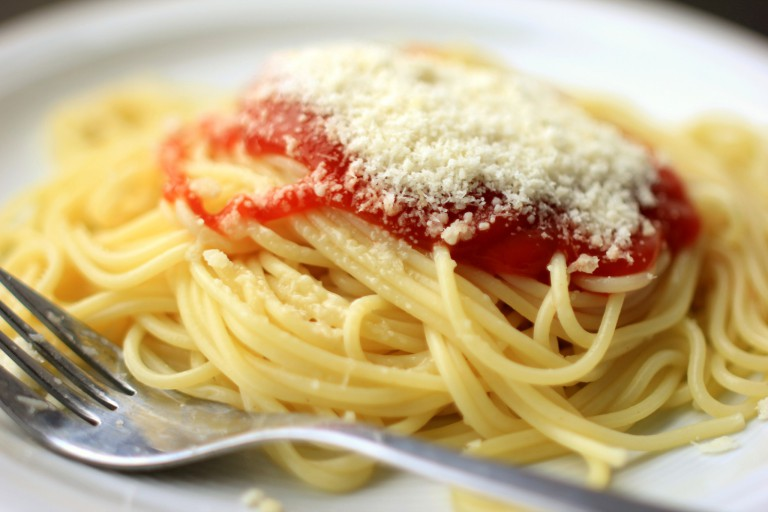plain spaghetti: (23, 82, 750, 452)
